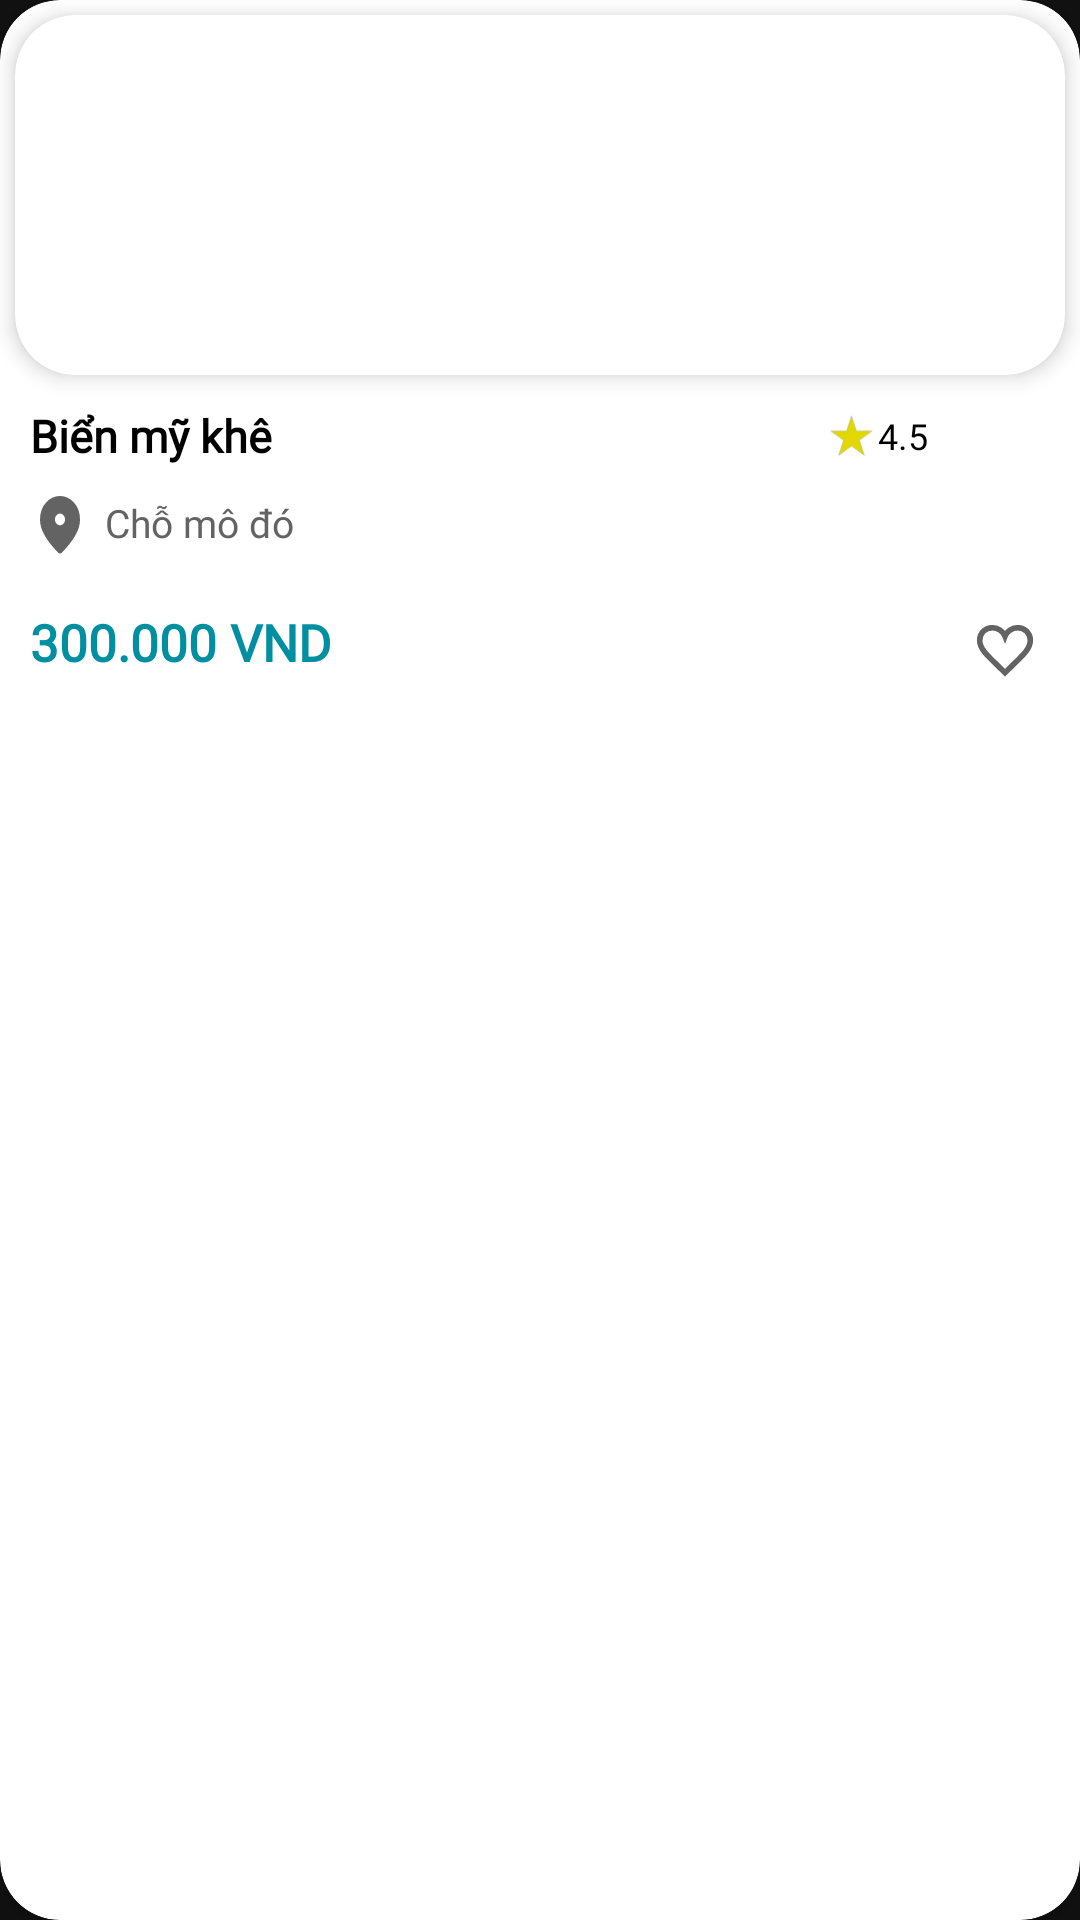

Point at icon controls on the screen. Image size 1080x1920, points as point (x, y).
location: point (60, 525)
star: point (851, 436)
